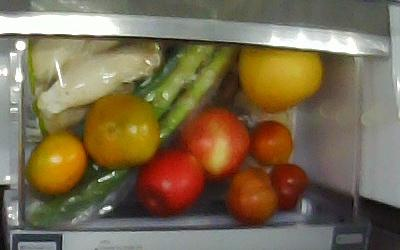apple: (181, 109, 251, 178), (137, 145, 202, 215)
grapefruit: (238, 42, 323, 111)
persimmon: (83, 94, 159, 165), (25, 133, 88, 194)
prune: (230, 169, 276, 220), (266, 162, 312, 211), (249, 119, 293, 166)
